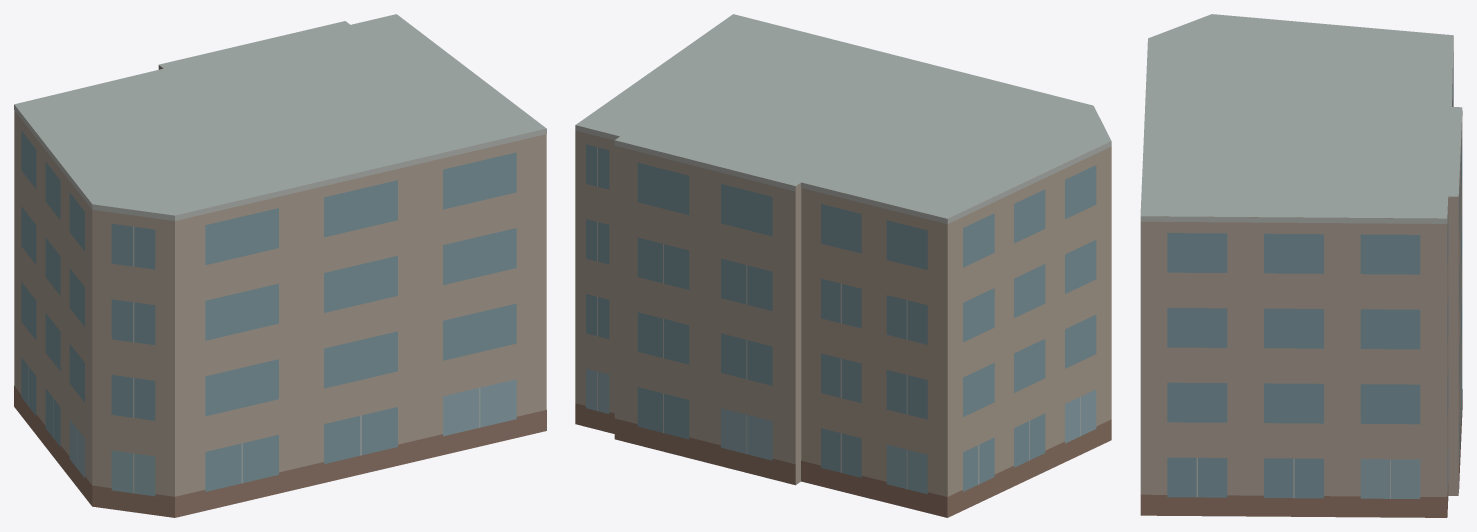
File: survey-upis-32698201.glb
3 renders of one model, left to right at view 1: azimuth 30°, elevation 25°; view 2: azimuth 150°, elevation 25°; view 3: azimuth 270°, elevation 25°, orthographic.
Parts seen in each view (by area): view 1: survey-upis-32698201.tmp; view 2: survey-upis-32698201.tmp; view 3: survey-upis-32698201.tmp.
Boxes of the visible parts, x1=… form: survey-upis-32698201.tmp: x1=14, y1=14, x2=546, y2=517; survey-upis-32698201.tmp: x1=575, y1=14, x2=1111, y2=517; survey-upis-32698201.tmp: x1=1140, y1=14, x2=1462, y2=517.
Size of the model in its own units: 19.8 by 13.51 by 13.18.
